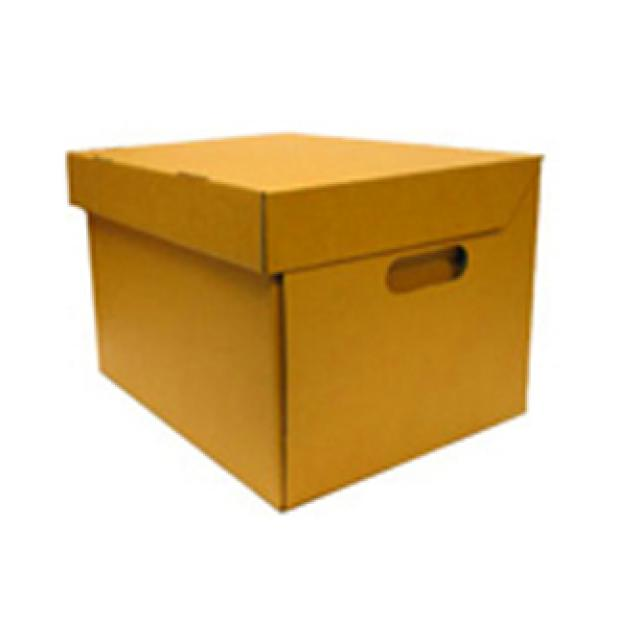box: (49, 101, 570, 547)
